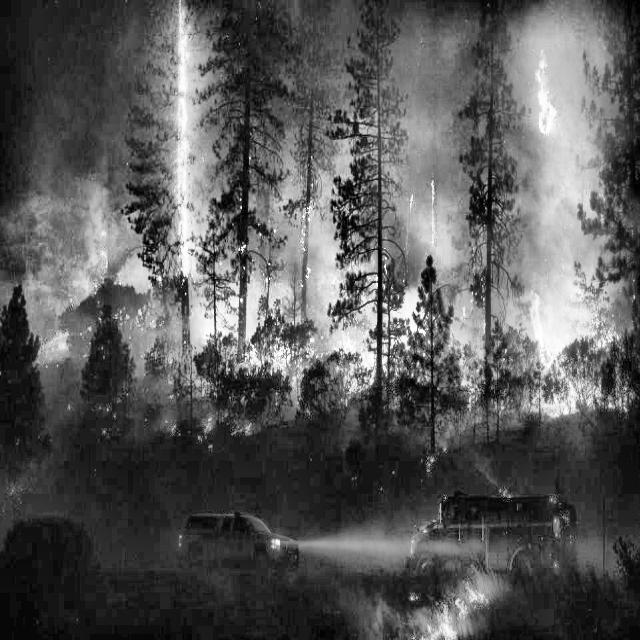fire: (326, 269, 436, 452), (510, 268, 612, 465), (173, 12, 237, 302), (383, 550, 521, 640), (513, 48, 574, 210), (259, 300, 319, 449), (40, 288, 76, 400), (86, 210, 116, 321)
